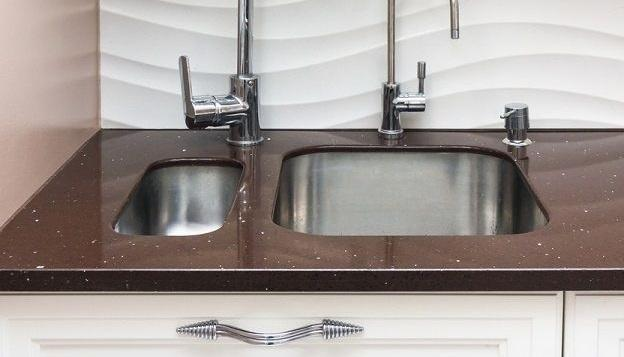Lavaplatos: (87, 41, 569, 252)
